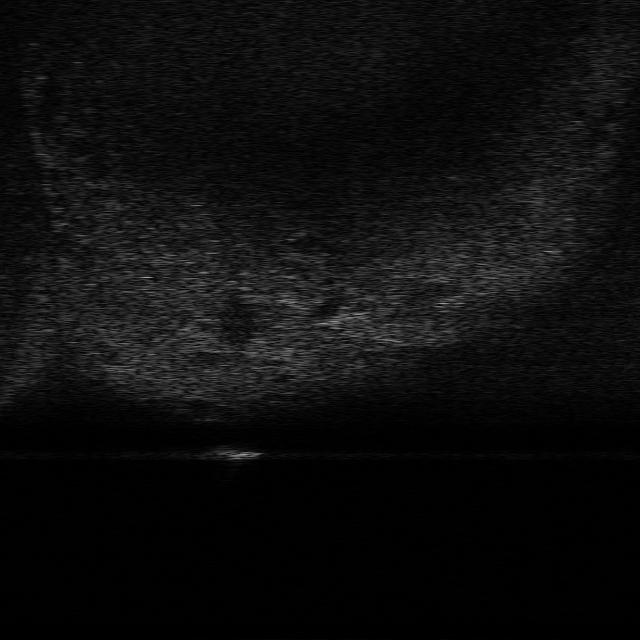cube: (198, 444, 258, 466)
